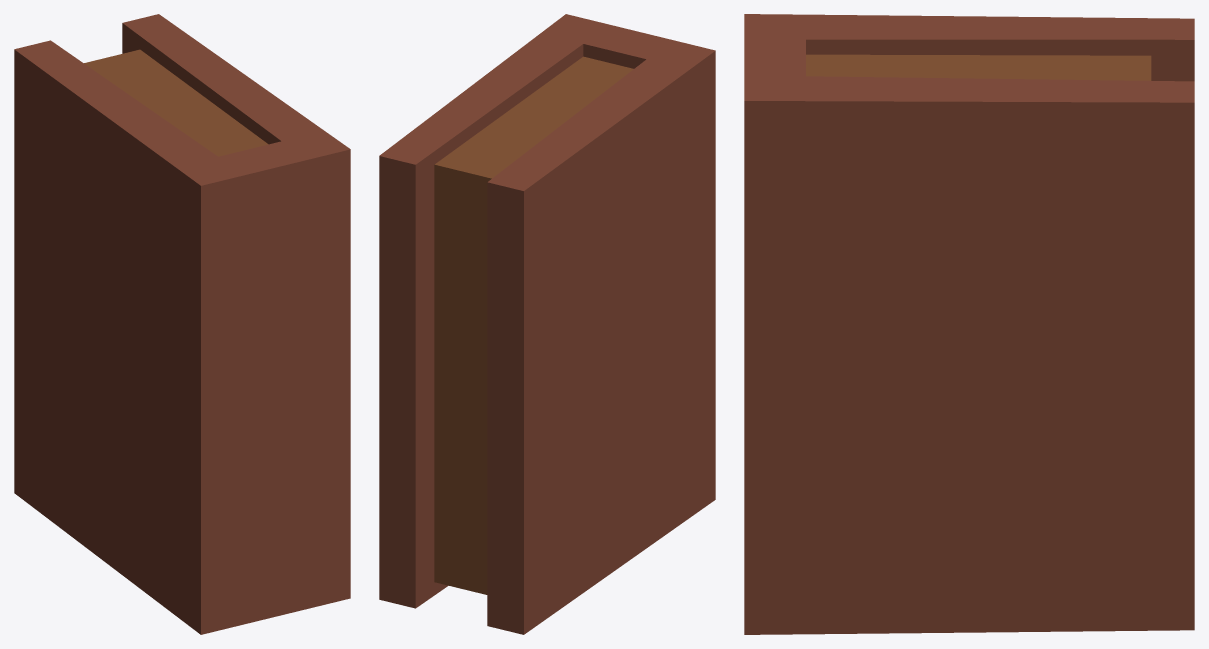
Rendered from book.fbx.
3 views of the same model, side by side, from view 1: azimuth 30°, elevation 25°; view 2: azimuth 150°, elevation 25°; view 3: azimuth 270°, elevation 25° (orthographic). The views are drawn at different scales.
Parts seen in each view (by area): view 1: book; view 2: book; view 3: book.
Part boxes in pixels (left/top/right/bottom): book: left=14, top=14, right=350, bottom=634; book: left=379, top=14, right=715, bottom=634; book: left=744, top=14, right=1194, bottom=634.
Size of the model in its own units: 45.44 by 130 by 99.48.
